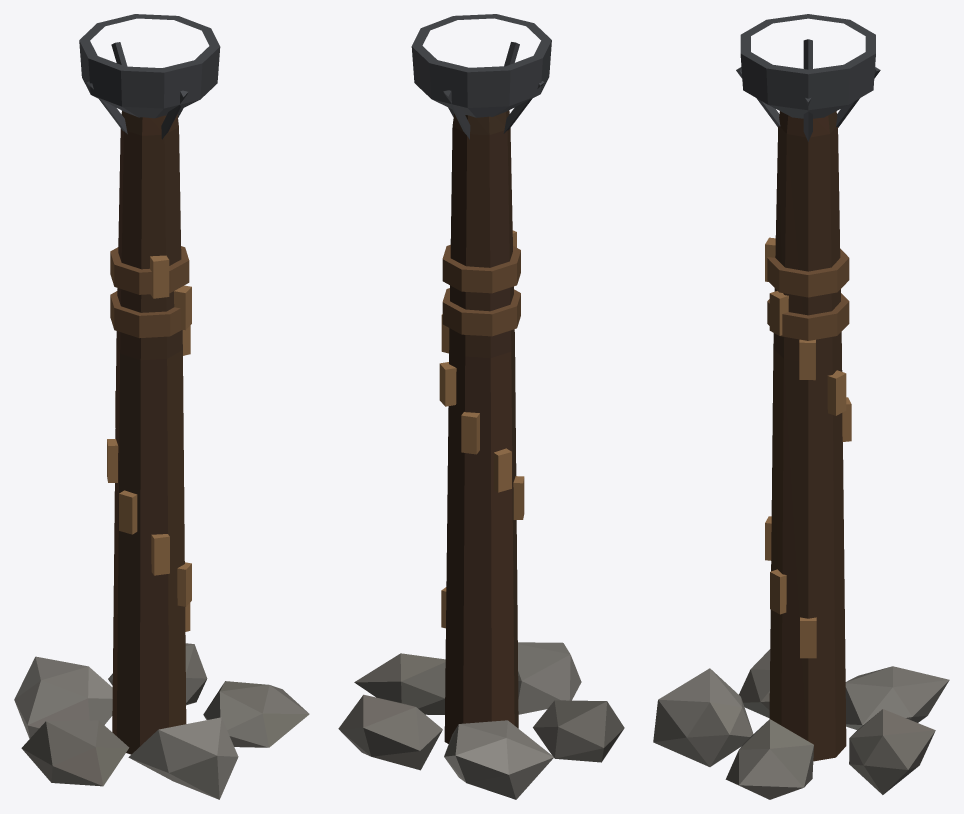
Rendered from DecorTorch.glb.
3 renders of one model, left to right at view 1: azimuth 30°, elevation 25°; view 2: azimuth 150°, elevation 25°; view 3: azimuth 270°, elevation 25°, orthographic.
Visible parts, largest first — view 1: Mat_Wood_4b3424, Mat_Stone_7c7973, Mat_Stone_6a6761, Mat_Metal_424448, Mat_Wood_7e5b3a, Mat_Wood_966e46; view 2: Mat_Wood_4b3424, Mat_Stone_7c7973, Mat_Stone_6a6761, Mat_Metal_424448, Mat_Wood_7e5b3a, Mat_Wood_966e46; view 3: Mat_Wood_4b3424, Mat_Stone_7c7973, Mat_Stone_6a6761, Mat_Metal_424448, Mat_Wood_7e5b3a, Mat_Wood_966e46.
Boxes of the visible parts, left/top/right/bottom form: Mat_Wood_4b3424: left=110, top=111, right=186, bottom=754; Mat_Stone_7c7973: left=14, top=643, right=309, bottom=799; Mat_Stone_6a6761: left=21, top=644, right=308, bottom=799; Mat_Metal_424448: left=79, top=14, right=220, bottom=139; Mat_Wood_7e5b3a: left=110, top=246, right=191, bottom=631; Mat_Wood_966e46: left=107, top=255, right=191, bottom=575; Mat_Wood_4b3424: left=442, top=110, right=520, bottom=743; Mat_Stone_7c7973: left=363, top=642, right=581, bottom=799; Mat_Stone_6a6761: left=338, top=653, right=624, bottom=770; Mat_Metal_424448: left=411, top=14, right=551, bottom=139; Mat_Wood_7e5b3a: left=441, top=245, right=520, bottom=628; Mat_Wood_966e46: left=439, top=230, right=524, bottom=519; Mat_Wood_4b3424: left=767, top=111, right=849, bottom=761; Mat_Stone_7c7973: left=653, top=666, right=949, bottom=787; Mat_Stone_6a6761: left=687, top=649, right=935, bottom=799; Mat_Metal_424448: left=736, top=14, right=880, bottom=141; Mat_Wood_7e5b3a: left=765, top=249, right=849, bottom=658; Mat_Wood_966e46: left=765, top=237, right=851, bottom=441.
Bounding box in the file's own units: 2.17 × 5.76 × 2.16.
1 material, 1 textured.
